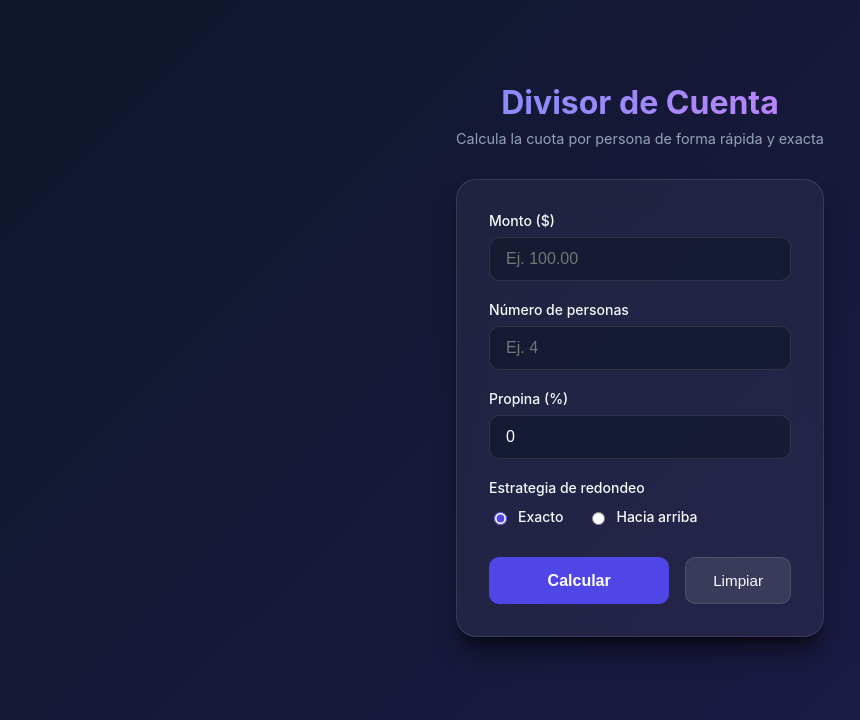
Test: Pruebas de la interfaz de usuario (Pantalla) › 2. Ingreso 50 y 0 personas, hago clic en "Calcular" y aparece "Debe haber al menos una persona", y NO aparece ningún resultado numérico
This screenshot has width=860, height=720.
Type "50" into the field labelled "Monto ($)" at (640, 259), box [489,237,791,281]
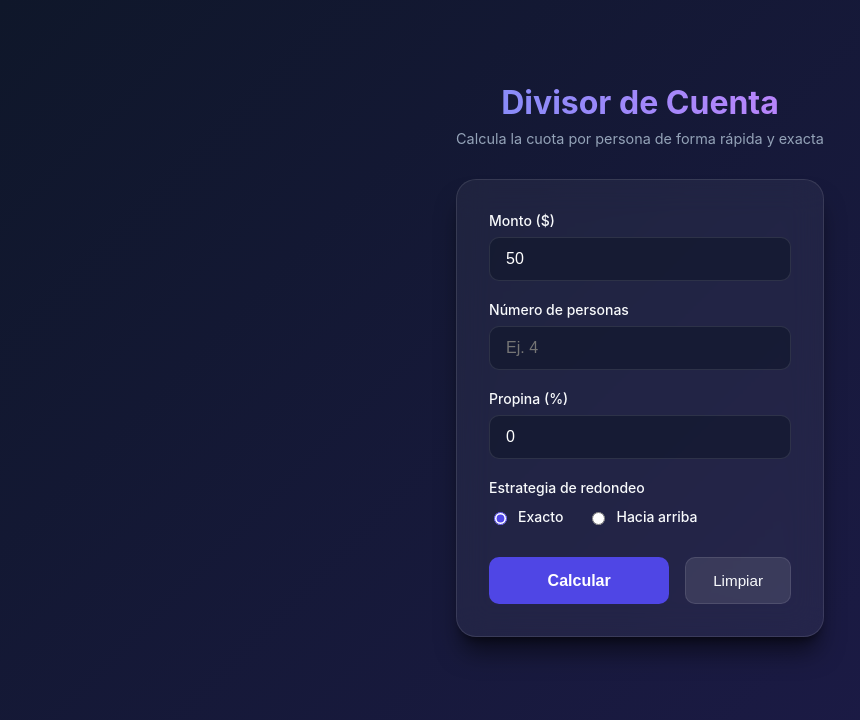
Type "0" into the field labelled "Número de personas" at (640, 348), box [489,326,791,370]
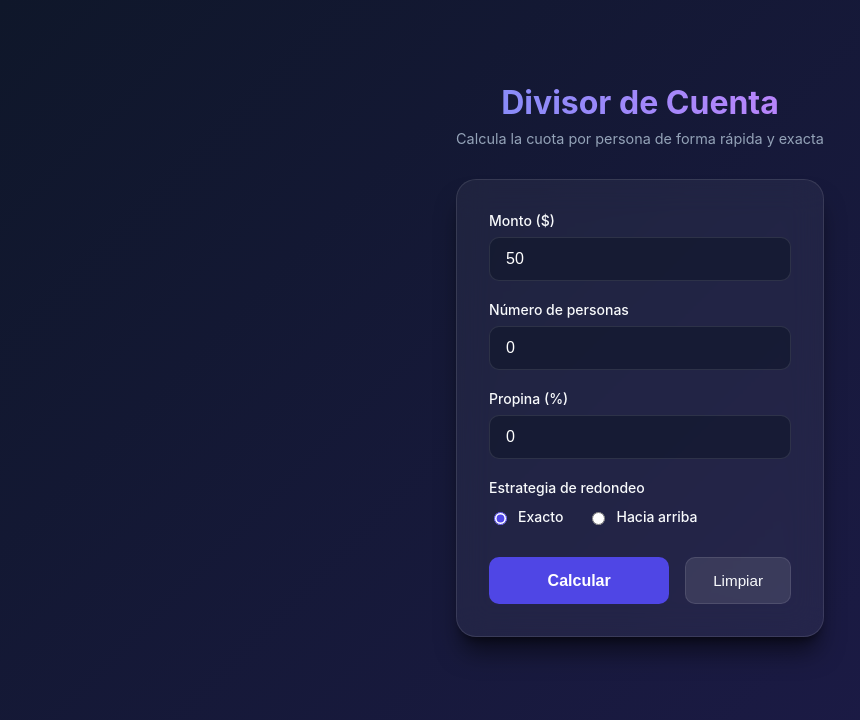
Click the button "Calcular" at (579, 580), box [489,557,669,604]
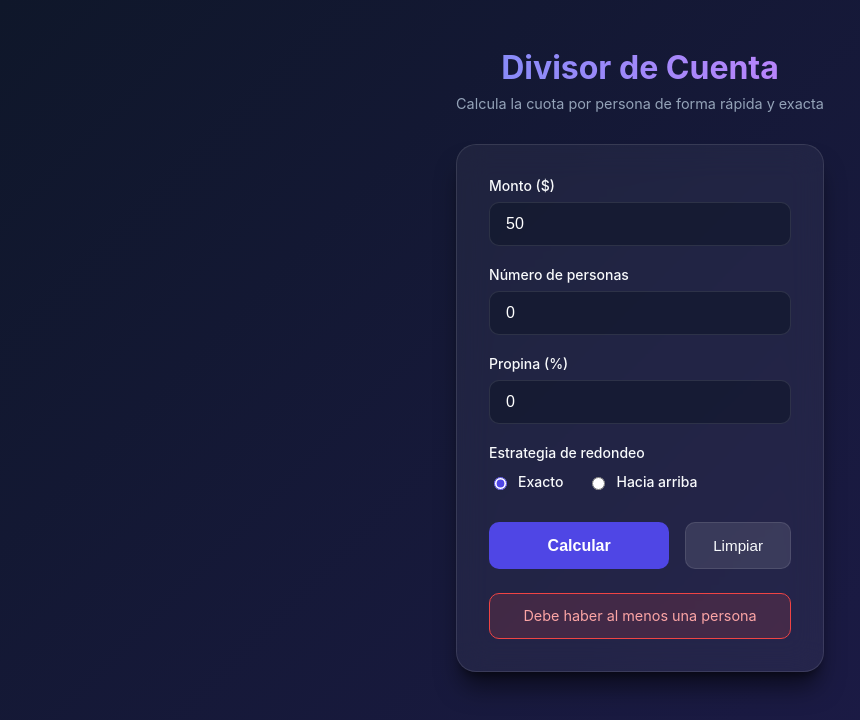
Expected: the text "Debe haber al menos una persona" is shown, [489,592,791,639]
